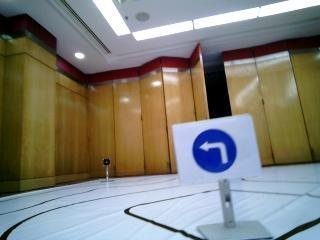left: (185, 118, 245, 175)
